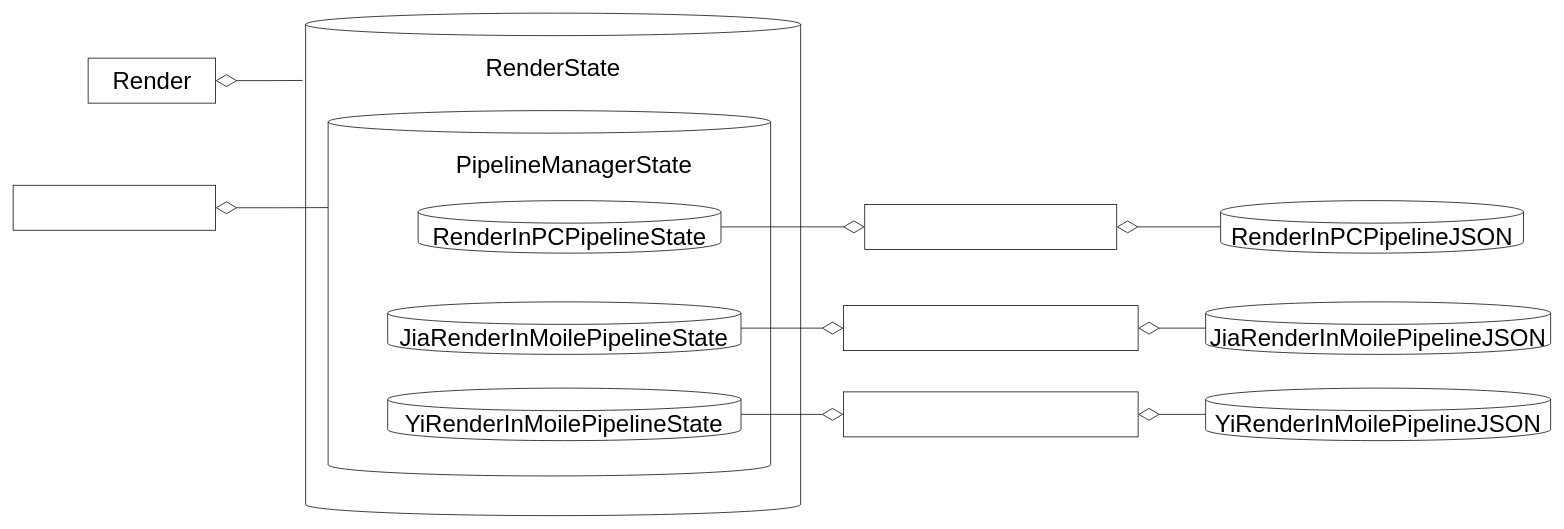
Image size: 1564x529. Some labels were removed from this diagram. The centre of each missing label's shape, as x and y in pixels:
JiaRenderInMoilePipeline: the point at 990,328
PipelineManager: the point at 114,207
RenderInPCPipeline: the point at 990,226
YiRenderInMoilePipeline: the point at 990,414
